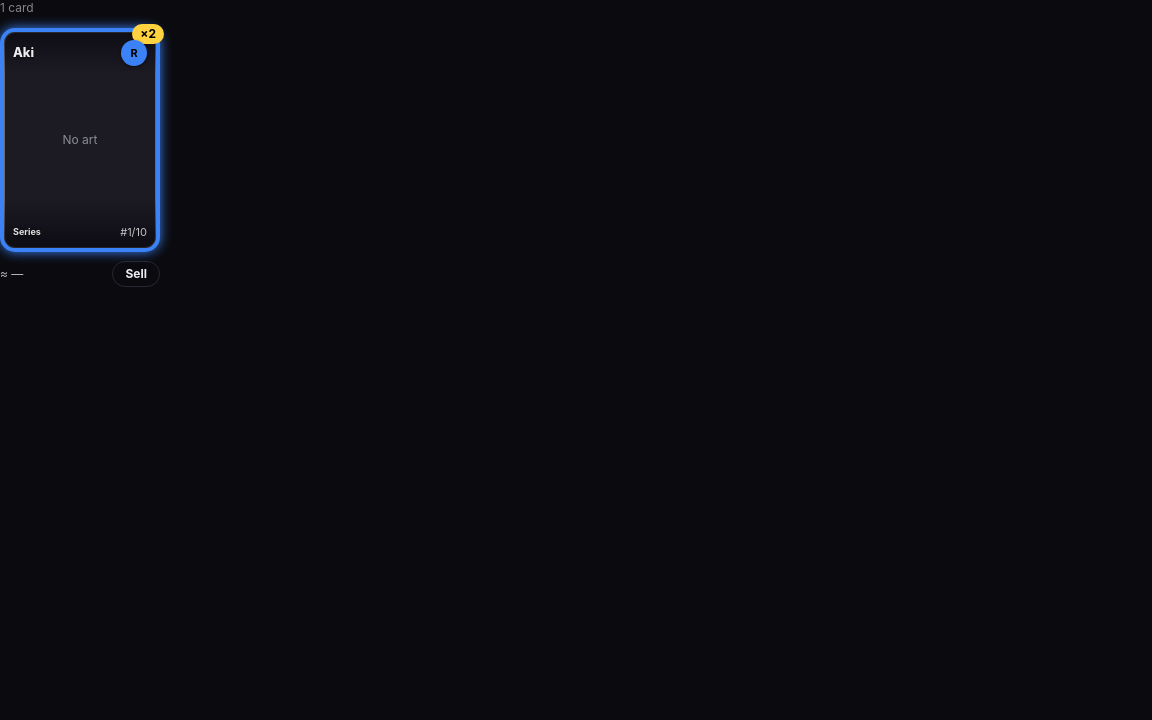
Test: Collection cards with value and Sell › opens the sell dialog for that card
Click the button with aria-label "Sell Aki": (136, 274) [112,261,160,287]
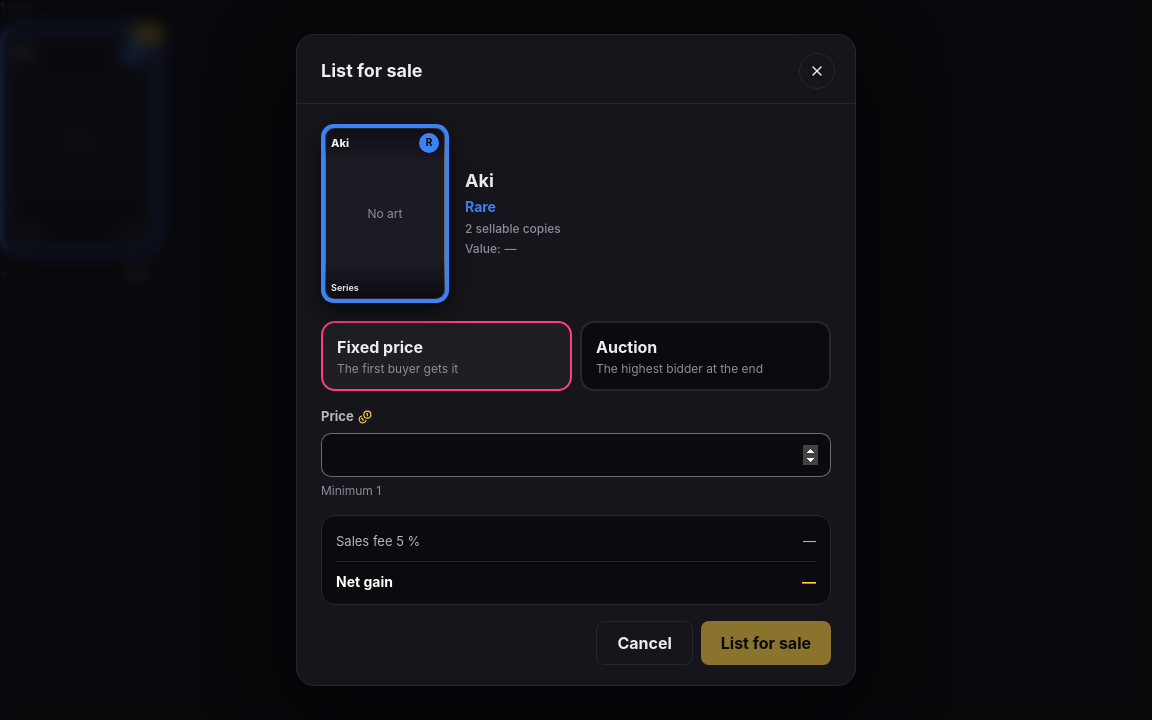
Check: the dialog named "Sell Aki" shows "2 sellable copies", box [465,221,561,236]
